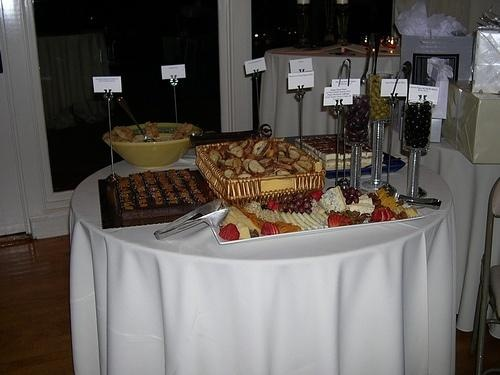diningtable: (69, 146, 458, 374), (260, 45, 402, 141)
